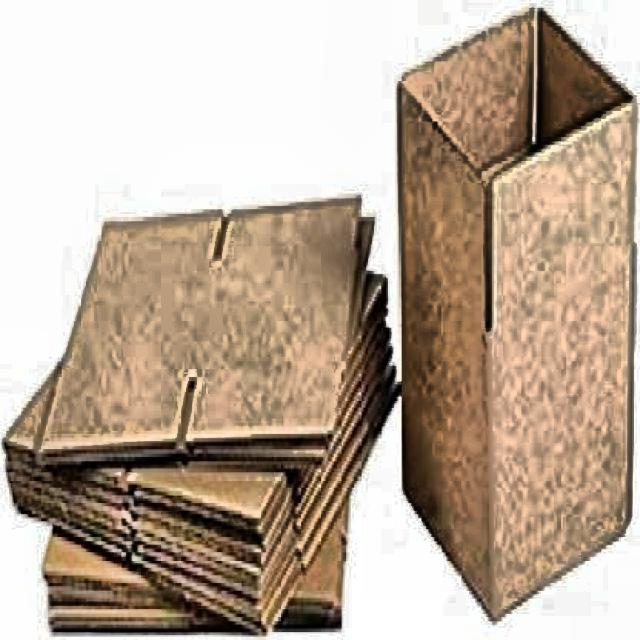Cardbox: (0, 198, 400, 640), (381, 2, 640, 616)
